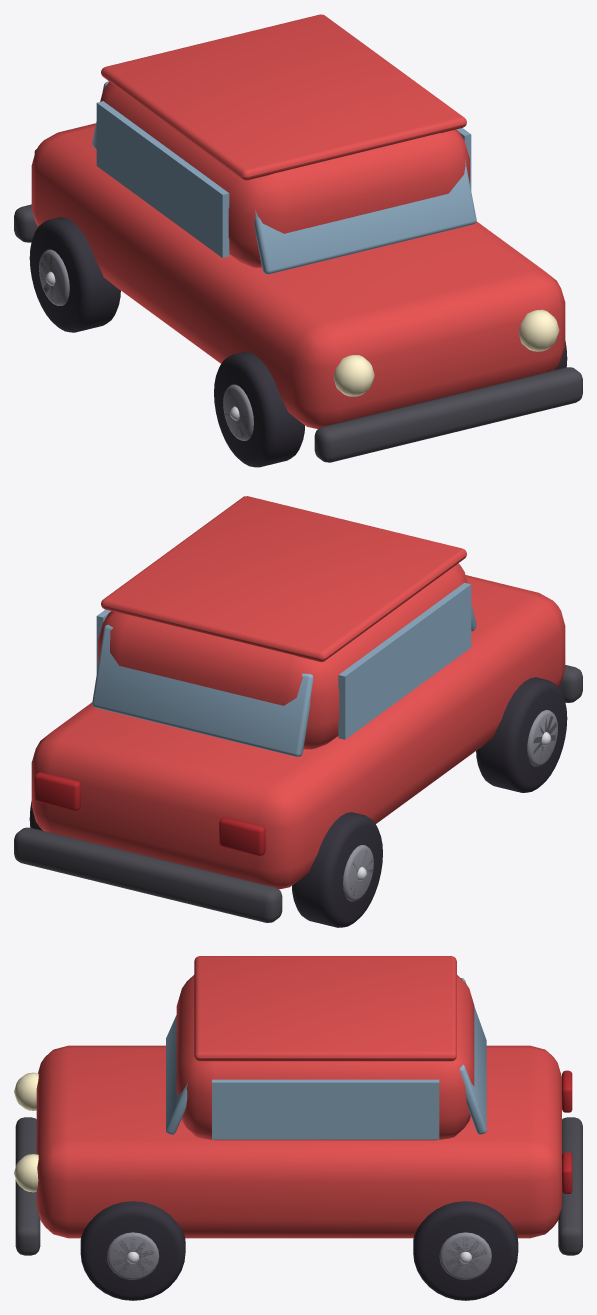
File: car_small.glb
3 renders of one model, top to bottom at view 1: azimuth 30°, elevation 25°; view 2: azimuth 150°, elevation 25°; view 3: azimuth 270°, elevation 25°, orthographic. The views are drawn at different scales.
Parts seen in each view (by area): view 1: body, wheel_fr, wheel_rr; view 2: body, wheel_fr, wheel_rr; view 3: body, wheel_rl, wheel_fl.
Part boxes in pixels (x1,y1,x2,y2): body: [14, 14, 582, 462]; wheel_fr: [214, 351, 304, 467]; wheel_rr: [29, 217, 120, 332]; body: [14, 496, 582, 922]; wheel_fr: [476, 677, 567, 792]; wheel_rr: [292, 812, 382, 927]; body: [14, 956, 582, 1255]; wheel_rl: [413, 1201, 518, 1300]; wheel_fl: [80, 1201, 185, 1300].
Size of the model in its own units: 1.9 by 1.47 by 3.25.
